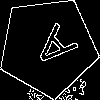A: (23, 21, 79, 78)
